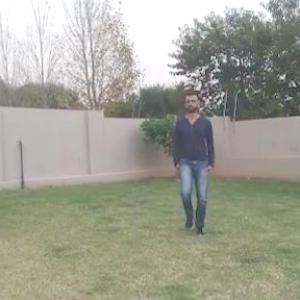follow: (175, 90, 211, 234)
